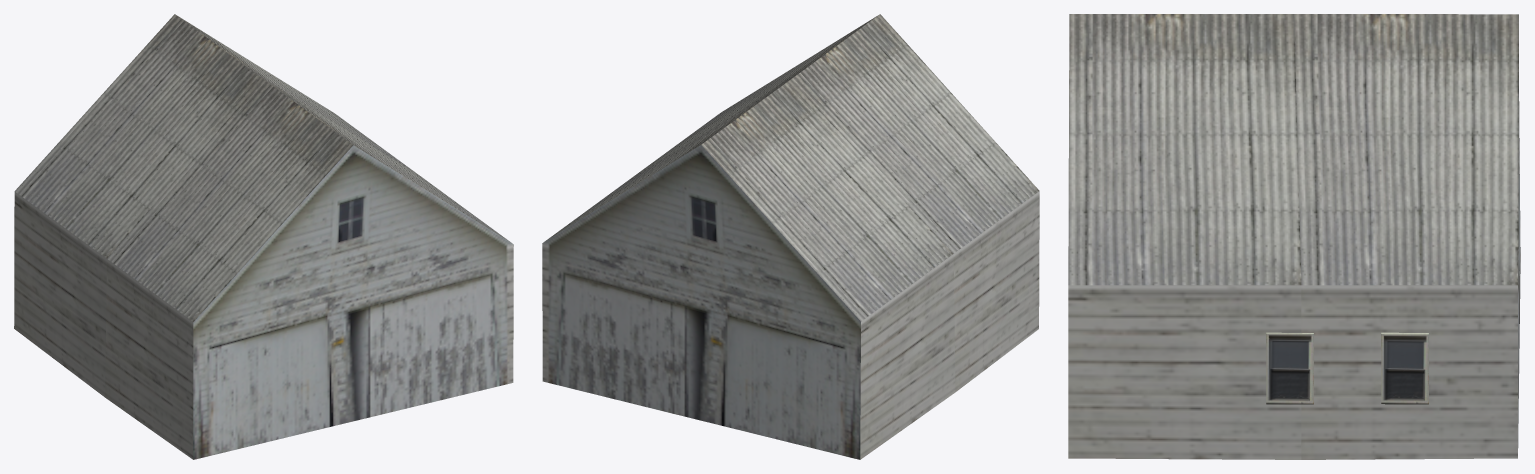
Rendered from barn2.fbx.
3 renders of one model, left to right at view 1: azimuth 30°, elevation 25°; view 2: azimuth 150°, elevation 25°; view 3: azimuth 270°, elevation 25°, orthographic. The views are drawn at different scales.
Parts seen in each view (by area): view 1: barn03; view 2: barn03; view 3: barn03.
Boxes of the visible parts, bbox=[...] form: barn03: bbox=[14, 14, 513, 459]; barn03: bbox=[542, 14, 1039, 459]; barn03: bbox=[1068, 14, 1520, 459].
Bounding box in the file's own units: 685 × 556 × 658.
1 material, 1 textured.
